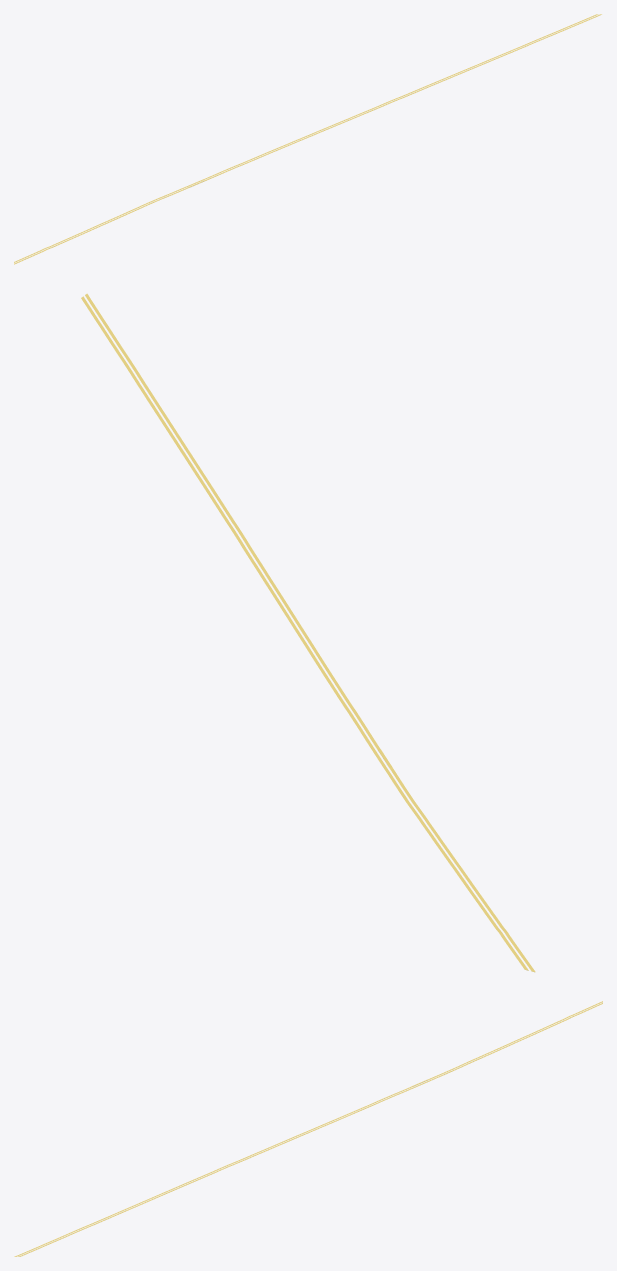
File: meadowvale-village-hml-hml.glb
3 renders of one model, top to bottom at view 1: azimuth 90°, elevation 25°; view 2: azimuth 150°, elevation 25°; view 3: azimuth 270°, elevation 25°, orthographic. The views are drawn at different scales.
Parts seen in each view (by area): view 1: service-guide-hml-main-b-0, service-guide-hml-main-a-0; view 2: service-guide-hml-main-b-0, service-guide-hml-main-a-0; view 3: service-guide-hml-main-b-0, service-guide-hml-main-a-0.
Boxes of the visible parts, x1,y1,x2,y2 form: service-guide-hml-main-b-0: [14, 14, 601, 264]; service-guide-hml-main-a-0: [14, 14, 597, 262]; service-guide-hml-main-b-0: [85, 293, 535, 972]; service-guide-hml-main-a-0: [81, 296, 528, 970]; service-guide-hml-main-b-0: [14, 1001, 602, 1256]; service-guide-hml-main-a-0: [18, 1003, 602, 1256].
Bounding box in the file's own units: 1041 × 5.46 × 1024.
